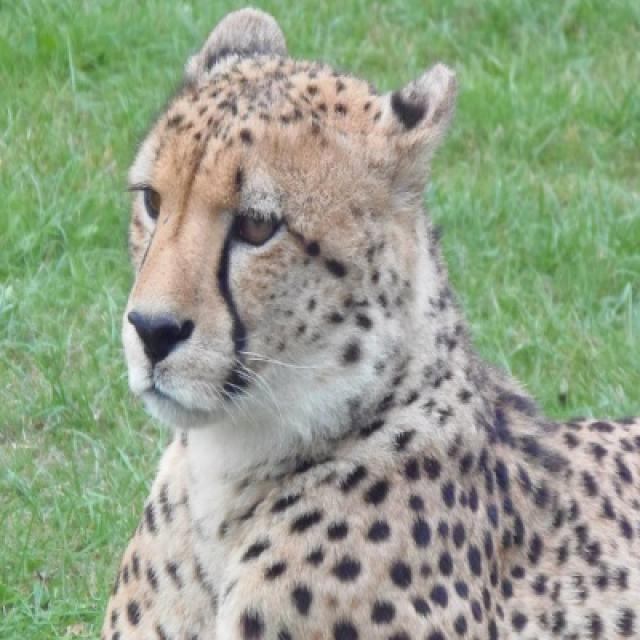Cheetah: (102, 8, 638, 638)
